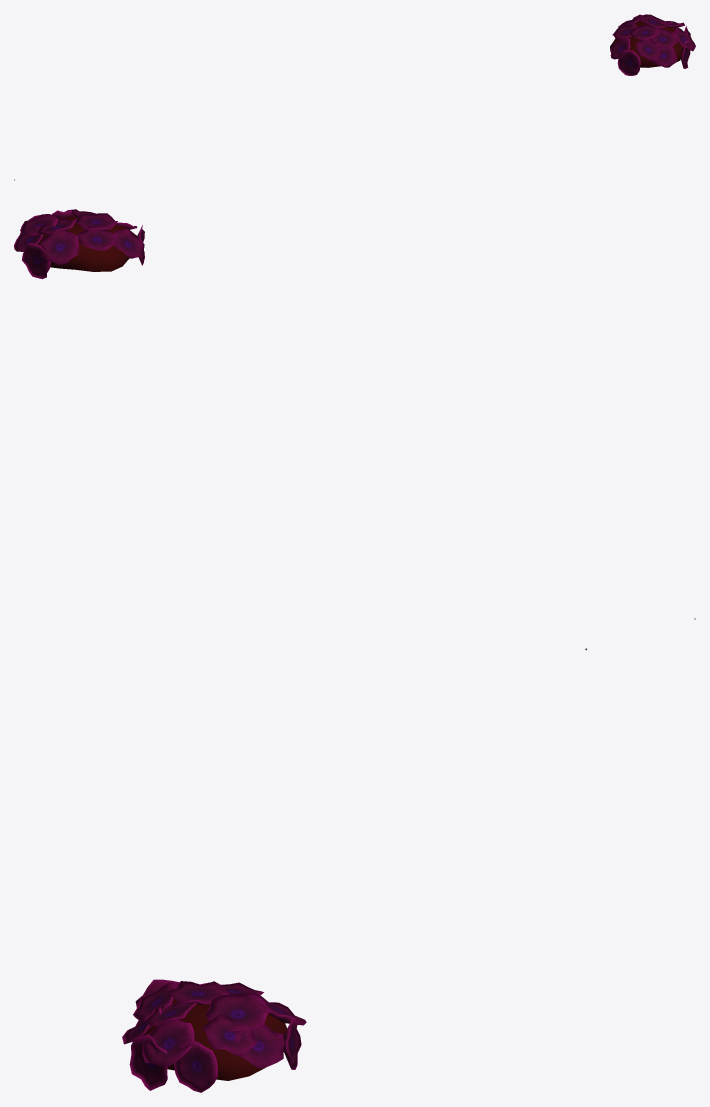
The model's file is mushroom_hairy_mound.glb.
3 renders of one model, top to bottom at view 1: azimuth 30°, elevation 25°; view 2: azimuth 150°, elevation 25°; view 3: azimuth 270°, elevation 25°, orthographic. The views are drawn at different scales.
Parts seen in each view (by area): view 1: Body; view 2: Body; view 3: Body.
Boxes of the visible parts, <box> form: Body: <box>610,14,695,75</box>; Body: <box>14,209,144,279</box>; Body: <box>122,979,306,1092</box>.
Bounding box in the file's own units: 115 × 17.45 × 39.82.
3 materials, 3 textured.
